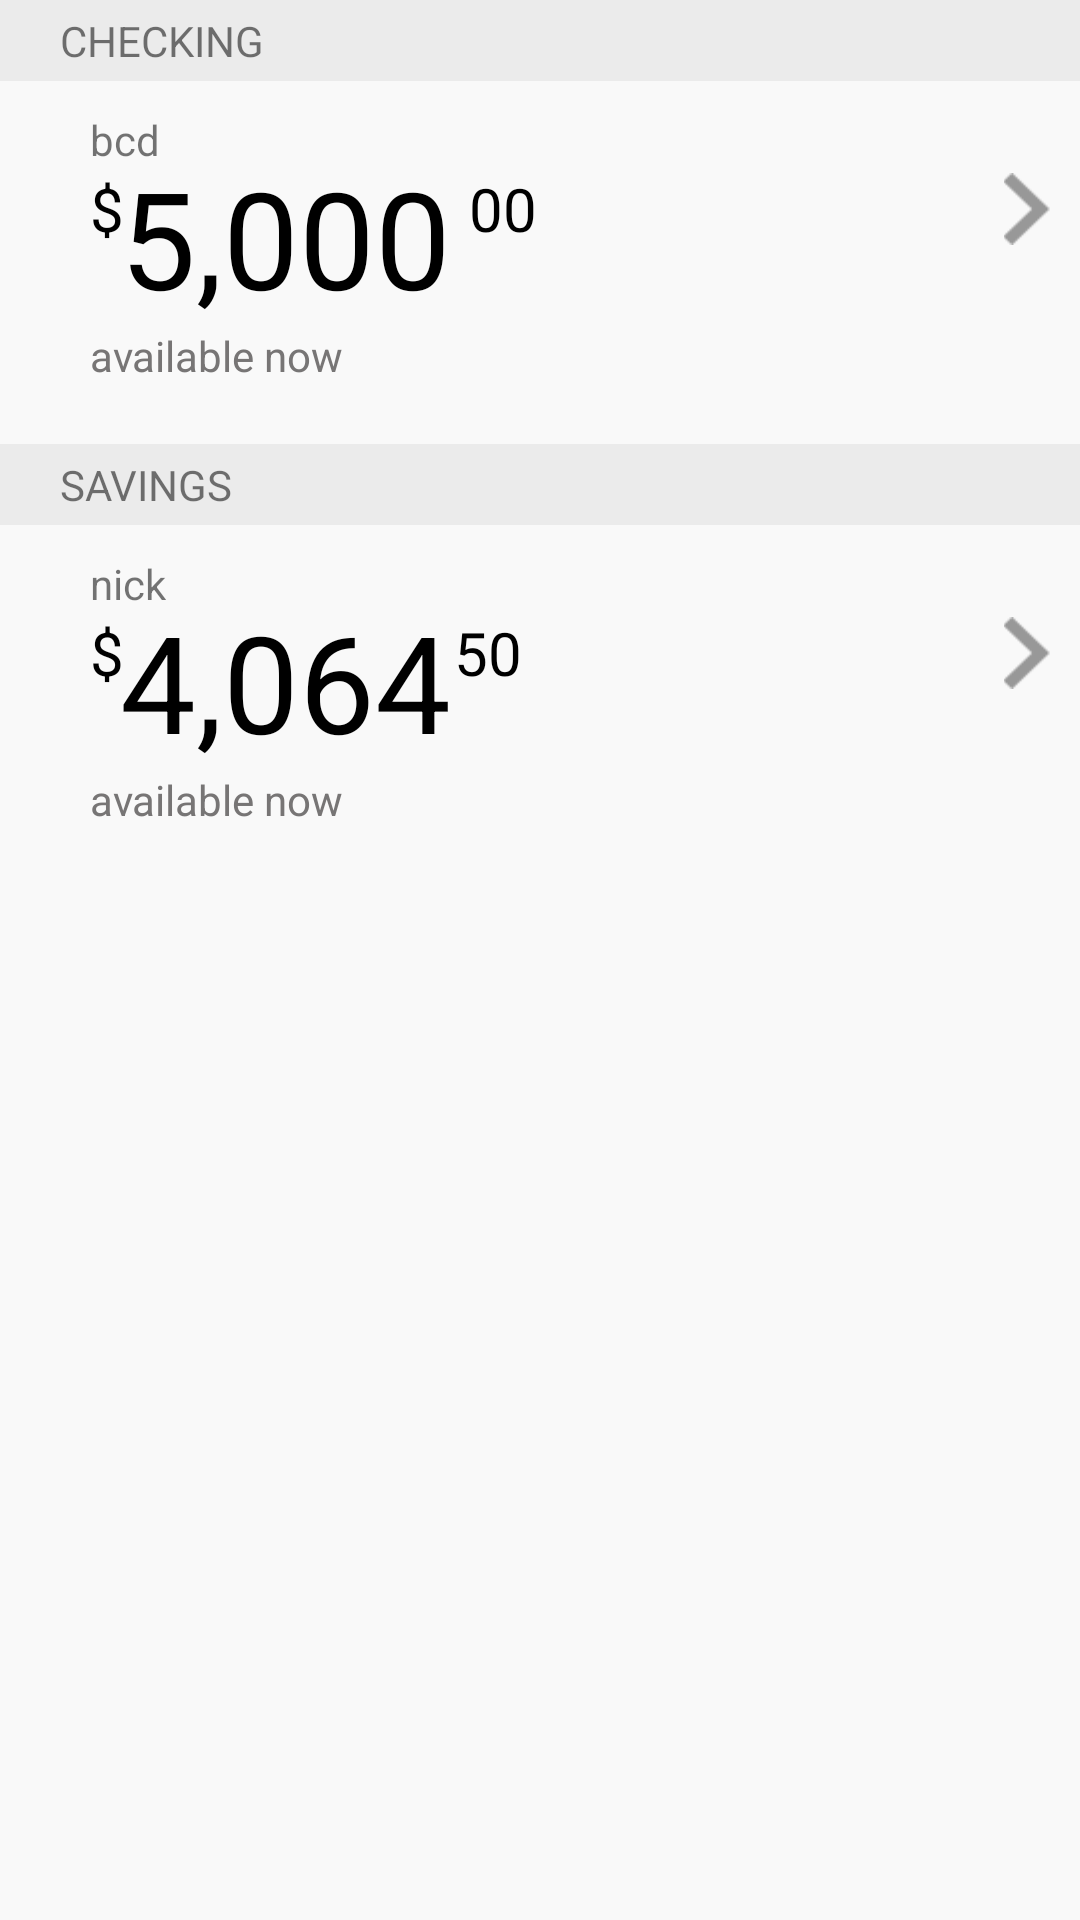

Locate icon controls on the screen. Image size 1080w x 1920h, boxes as BBox(x1, y1, x2, y2).
chevron right: BBox(1004, 173, 1049, 245), BBox(1004, 617, 1049, 689)
